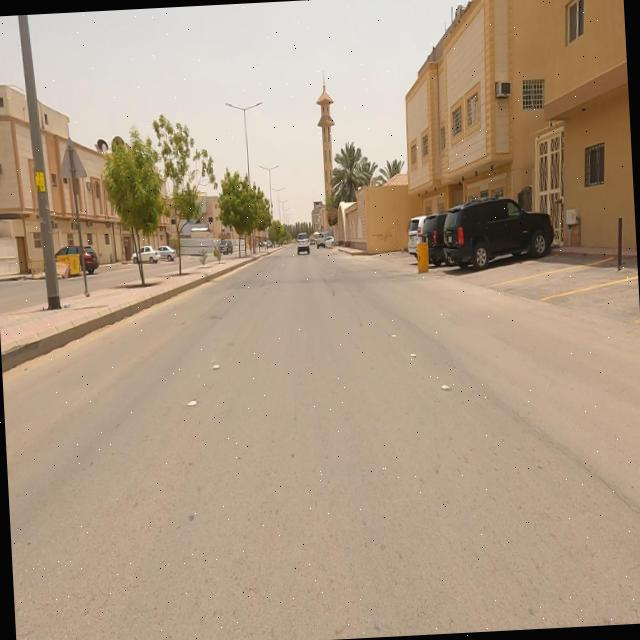Graffiti: (373, 219, 404, 249)
